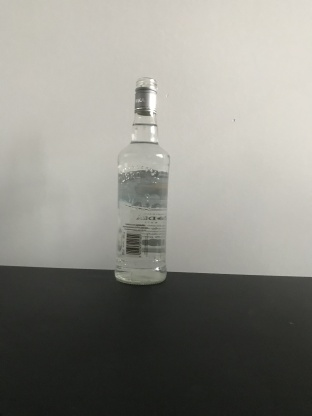nakretka: (132, 76, 159, 116)
